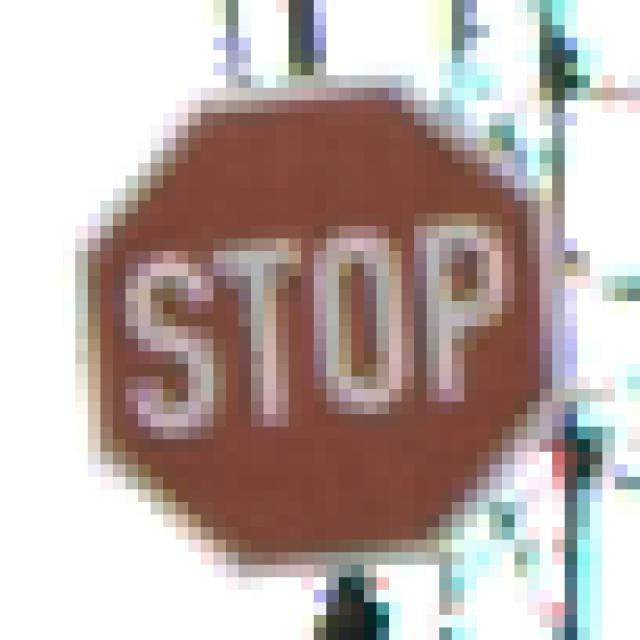STOP: (64, 64, 578, 578)
